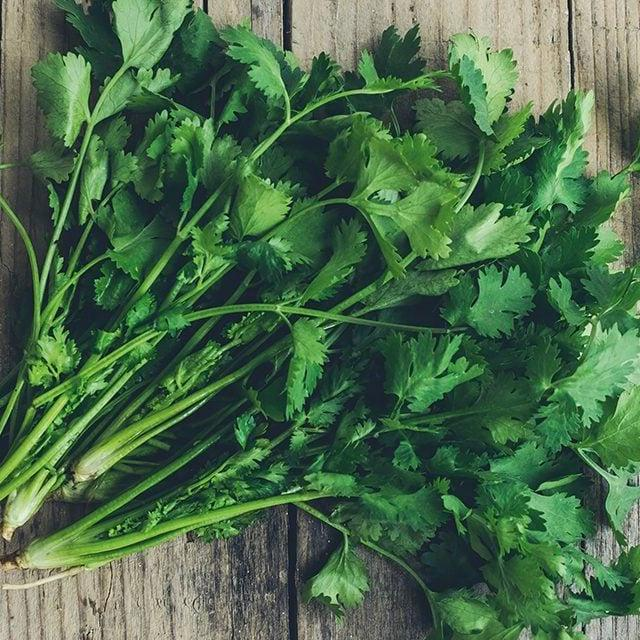cilantro: (1, 80, 640, 526)
